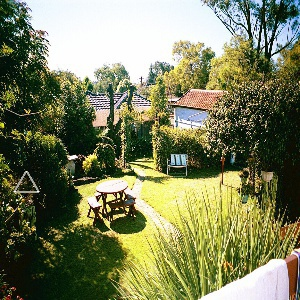triangle: (11, 168, 44, 197)
